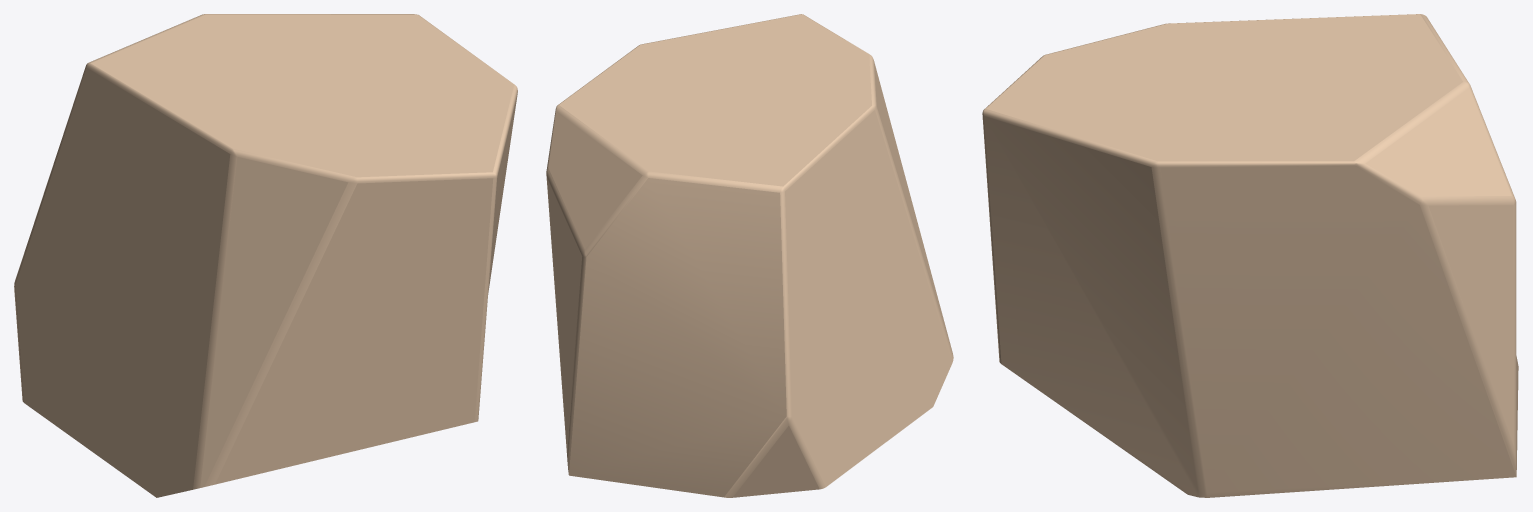
File: P_Stone.fbx
The picture shows the model from 3 angles, left to right: view 1: azimuth 30°, elevation 25°; view 2: azimuth 150°, elevation 25°; view 3: azimuth 270°, elevation 25°; orthographic projection. The views are drawn at different scales.
Parts seen in each view (by area): view 1: Stone good.003; view 2: Stone good.003; view 3: Stone good.003.
Part boxes in pixels (box(x1,y1,x2,y2)): Stone good.003: box(14, 14, 517, 497); Stone good.003: box(546, 14, 953, 497); Stone good.003: box(982, 14, 1518, 497).
Bounding box in the file's own units: 68.55 × 64.94 × 87.28.
